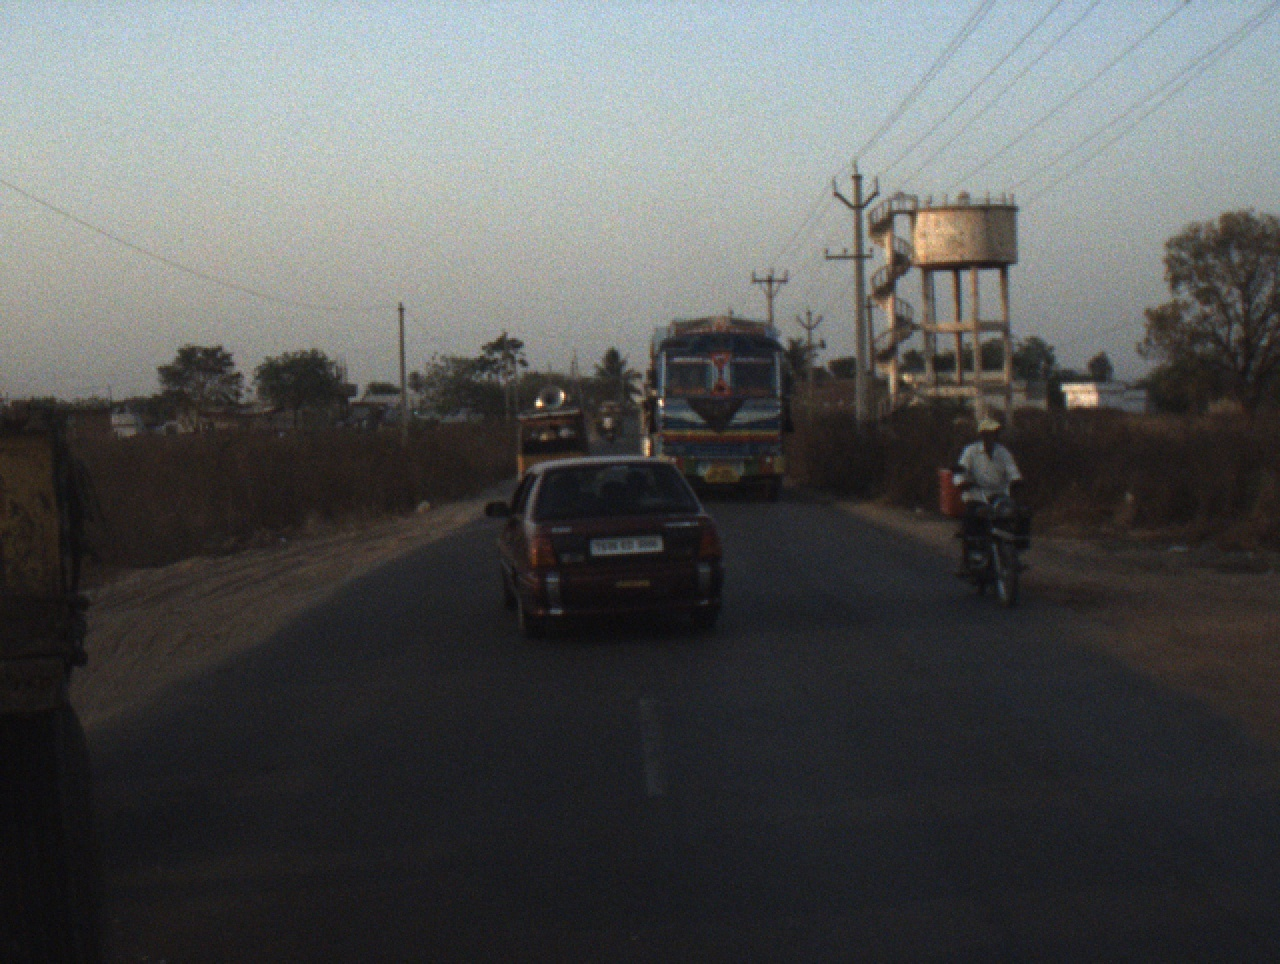autorickshaw: (508, 385, 595, 482)
car: (482, 452, 727, 644)
motorcycle: (950, 464, 1035, 611)
rider: (951, 418, 1026, 573)
truck: (642, 313, 800, 504)
vehicle fallback: (4, 400, 120, 941), (597, 396, 628, 443)
